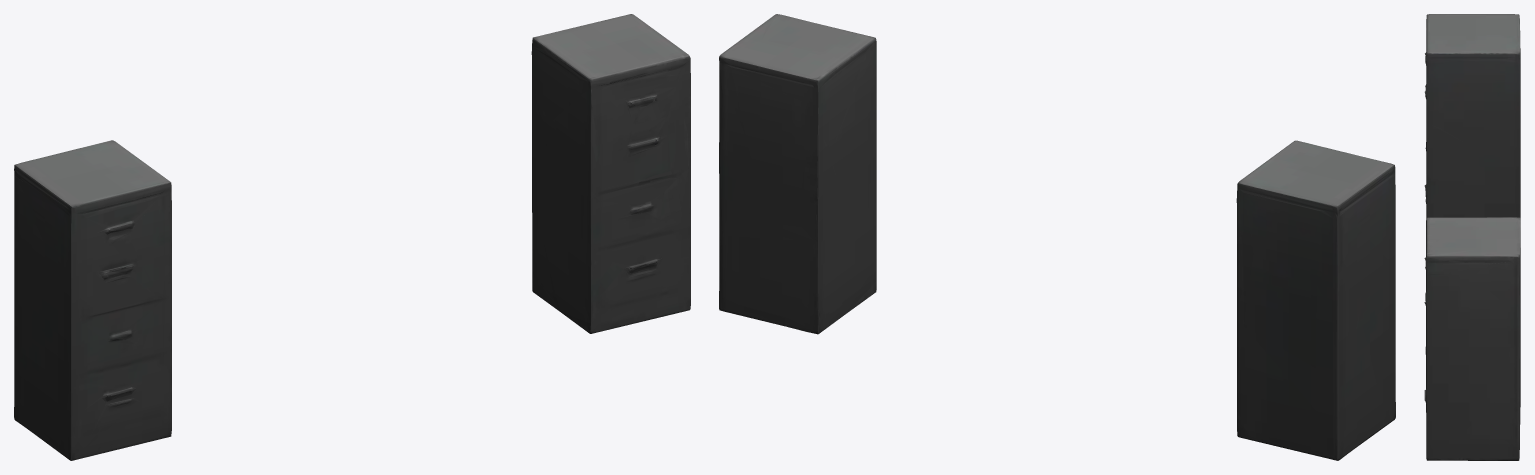
The model's file is filing_cabinet.glb.
3 renders of one model, left to right at view 1: azimuth 30°, elevation 25°; view 2: azimuth 150°, elevation 25°; view 3: azimuth 270°, elevation 25°, orthographic. The views are drawn at different scales.
Visible parts, largest first — view 1: geometry_0; view 2: geometry_0; view 3: geometry_0.
Boxes of the visible parts, x1=… form: geometry_0: x1=14, y1=14, x2=690, y2=460; geometry_0: x1=719, y1=14, x2=1395, y2=460; geometry_0: x1=1424, y1=14, x2=1520, y2=460.
Bounding box in the file's own units: 0.9998 × 0.3934 × 0.1675.
1 material, 1 textured.
